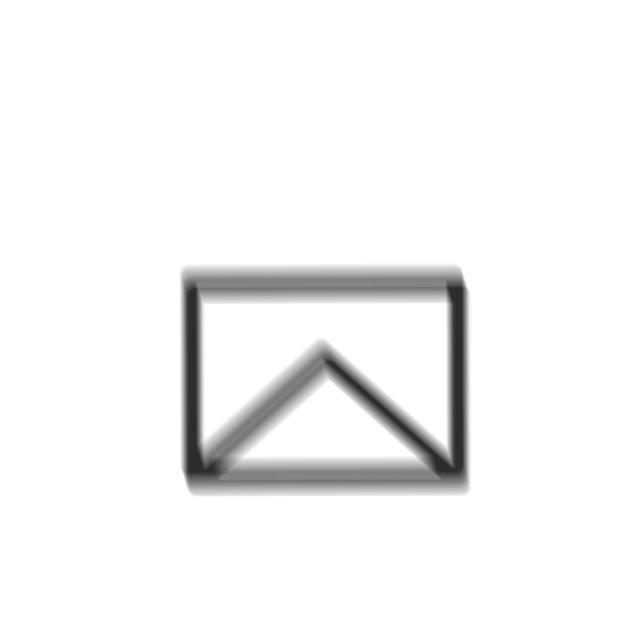letter: (175, 260, 478, 505)
